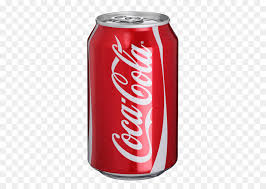coke: (111, 35, 159, 167)
